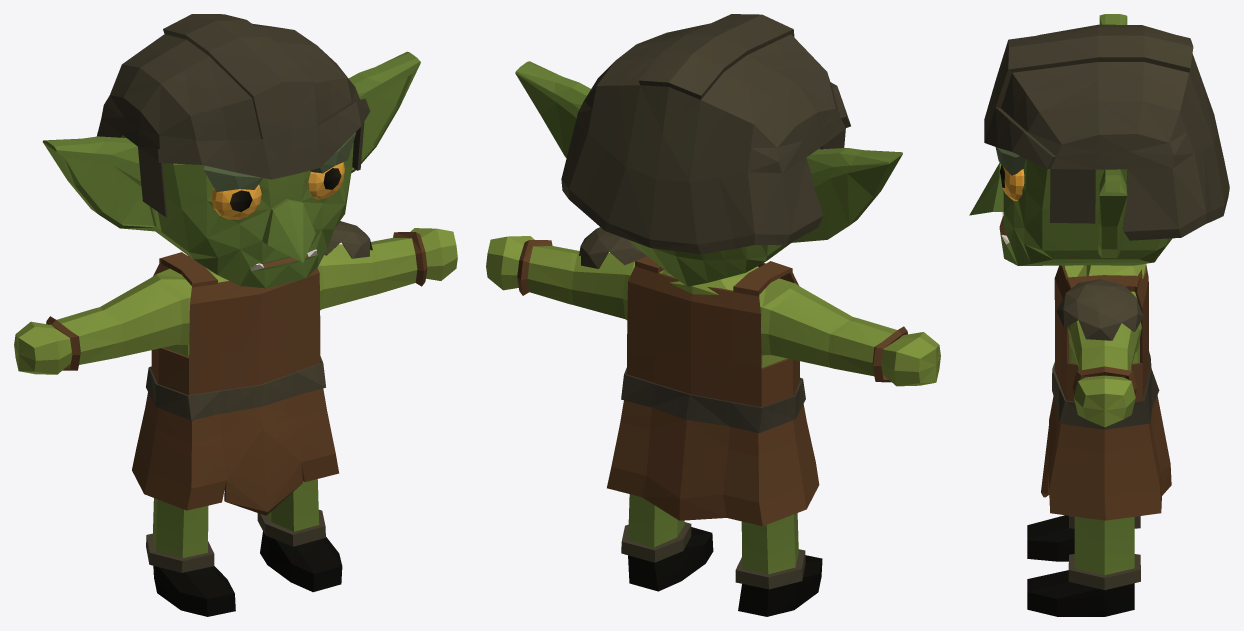
The model's file is Goblin_Warrior.obj.
3 views of the same model, side by side, from view 1: azimuth 30°, elevation 25°; view 2: azimuth 150°, elevation 25°; view 3: azimuth 270°, elevation 25° (orthographic). The views are drawn at different scales.
Visible parts, largest first — view 1: Goblin, Pant, Helmet, Blet, Eyes, Protection; view 2: Helmet, Goblin, Pant, Blet, Protection; view 3: Helmet, Goblin, Pant, Protection, Blet, Eyes.
Boxes of the visible parts, left/top/right/bottom form: Goblin: left=14, top=51, right=457, bottom=616; Pant: left=132, top=252, right=339, bottom=515; Helmet: left=96, top=14, right=370, bottom=217; Blet: left=146, top=356, right=325, bottom=420; Eyes: left=211, top=162, right=344, bottom=219; Protection: left=324, top=221, right=372, bottom=258; Helmet: left=561, top=14, right=850, bottom=254; Goblin: left=486, top=61, right=940, bottom=616; Pant: left=607, top=256, right=819, bottom=526; Blet: left=621, top=367, right=805, bottom=432; Protection: left=579, top=227, right=646, bottom=268; Helmet: left=984, top=24, right=1229, bottom=240; Goblin: left=969, top=14, right=1172, bottom=616; Pant: left=1041, top=264, right=1171, bottom=520; Protection: left=1056, top=279, right=1143, bottom=340; Blet: left=1052, top=351, right=1159, bottom=429; Eyes: left=1000, top=165, right=1024, bottom=201.
Size of the model in its own units: 0.876 by 1.04 by 0.4516.
